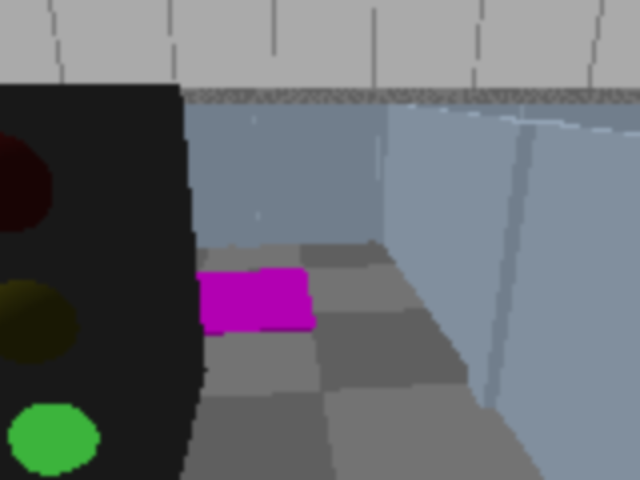goal_zone: (150, 268, 316, 337)
